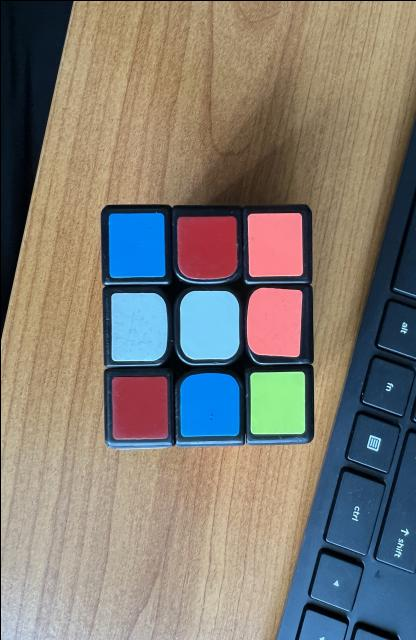Blue: (179, 371, 238, 436), (107, 211, 165, 276)
Orange: (246, 286, 301, 356), (247, 211, 302, 276)
Red: (177, 215, 236, 279), (112, 375, 167, 439)
White: (179, 290, 238, 359), (110, 291, 167, 360)
Yellow: (249, 370, 304, 434)
